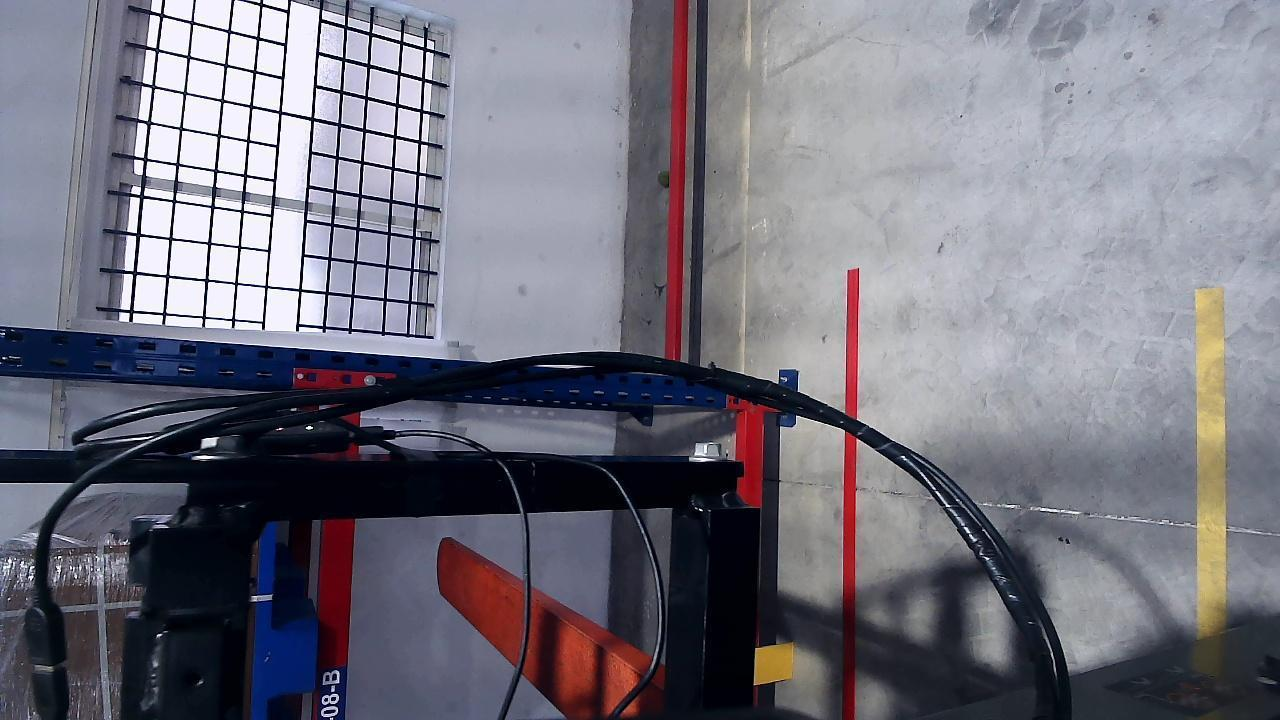red_line: (844, 268, 863, 716)
yellow_line: (1193, 286, 1228, 673)
